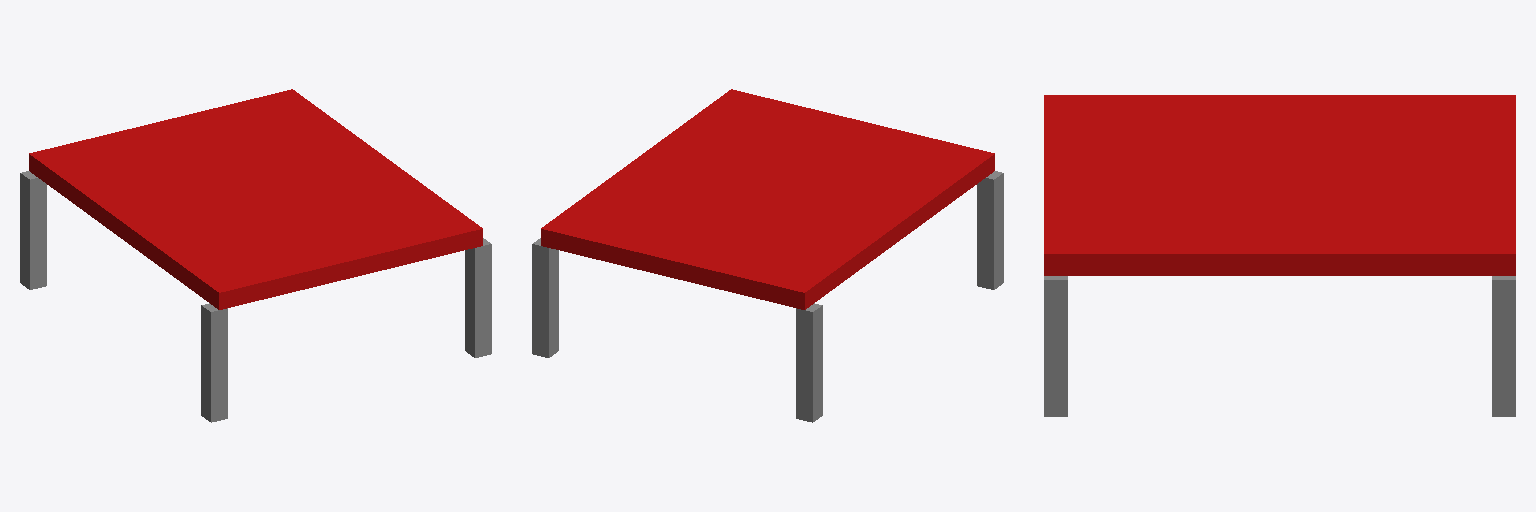
The robot description file, URDF, robot "robocon_2027_low_frame_stage2":
<?xml version="1.0"?>
<!-- Curriculum stage 2: inner HxWxL = 0.32 x 0.90 x 0.80 m. -->
<robot name="robocon_2027_low_frame_stage2">
  <link name="low_frame">
    <collision name="roof"><origin xyz="0.40 0 0"/><geometry><box size="0.80 1.00 0.05"/></geometry></collision>
    <collision name="entry_post_pos_y"><origin xyz="0 0.475 -0.185"/><geometry><box size="0.05 0.05 0.32"/></geometry></collision>
    <collision name="entry_post_neg_y"><origin xyz="0 -0.475 -0.185"/><geometry><box size="0.05 0.05 0.32"/></geometry></collision>
    <collision name="exit_post_pos_y"><origin xyz="0.80 0.475 -0.185"/><geometry><box size="0.05 0.05 0.32"/></geometry></collision>
    <collision name="exit_post_neg_y"><origin xyz="0.80 -0.475 -0.185"/><geometry><box size="0.05 0.05 0.32"/></geometry></collision>
    <visual name="roof_vis"><origin xyz="0.40 0 0"/><geometry><box size="0.80 1.00 0.05"/></geometry><material name="red"><color rgba="0.8 0.1 0.1 1"/></material></visual>
    <visual name="entry_post_pos_y_vis"><origin xyz="0 0.475 -0.185"/><geometry><box size="0.05 0.05 0.32"/></geometry><material name="grey"><color rgba="0.6 0.6 0.6 1"/></material></visual>
    <visual name="entry_post_neg_y_vis"><origin xyz="0 -0.475 -0.185"/><geometry><box size="0.05 0.05 0.32"/></geometry><material name="grey"/></visual>
    <visual name="exit_post_pos_y_vis"><origin xyz="0.80 0.475 -0.185"/><geometry><box size="0.05 0.05 0.32"/></geometry><material name="grey"/></visual>
    <visual name="exit_post_neg_y_vis"><origin xyz="0.80 -0.475 -0.185"/><geometry><box size="0.05 0.05 0.32"/></geometry><material name="grey"/></visual>
  </link>
</robot>

--- Render facts (derived) ---
The picture shows the robot from 3 angles, left to right: view 1: azimuth 30°, elevation 25°; view 2: azimuth 150°, elevation 25°; view 3: azimuth 270°, elevation 25°; orthographic projection.
Model robocon_2027_low_frame_stage2 with 1 links and 0 joints (none), rooted at low_frame, posed every joint at zero.
Links seen in each view (by area): view 1: low_frame; view 2: low_frame; view 3: low_frame.
Link boxes in pixels (x1,y1,x2,y2): low_frame: (20,89,491,422); low_frame: (532,89,1003,422); low_frame: (1044,95,1515,416).
Size in the robot's own frame: 0.85 by 1 by 0.37 metres.
Geometry: primitives only (box / cylinder / sphere), no mesh files.
